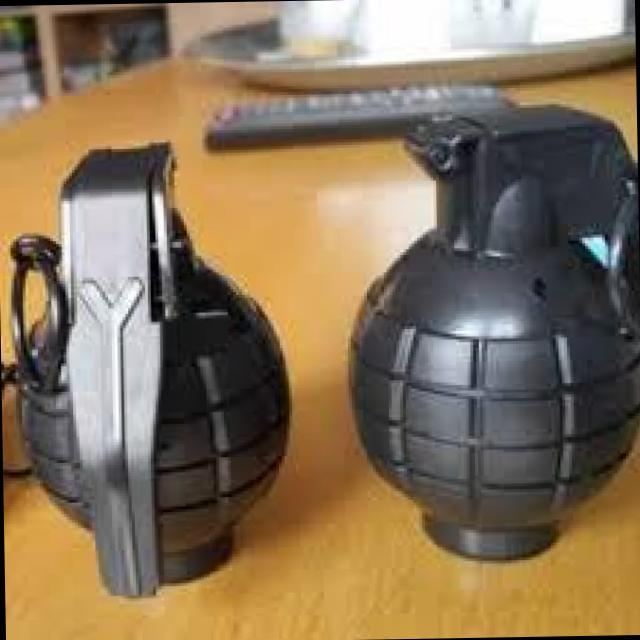grenade: (343, 111, 635, 554)
